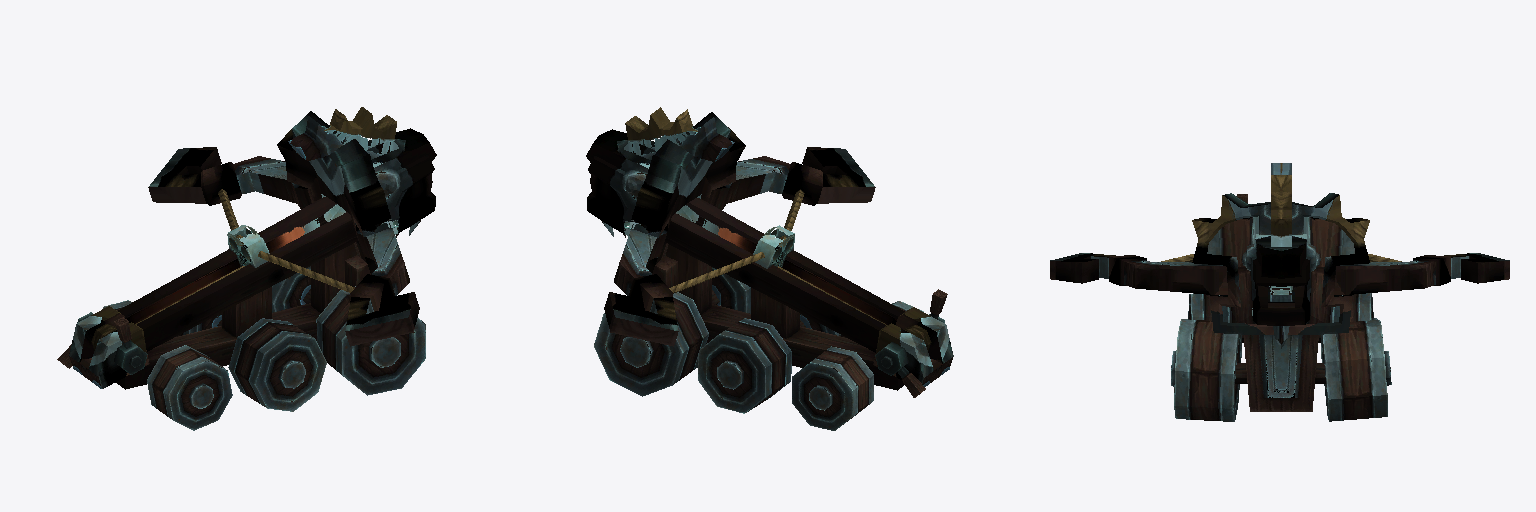
The picture shows the model from 3 angles: view 1: azimuth 30°, elevation 25°; view 2: azimuth 150°, elevation 25°; view 3: azimuth 270°, elevation 25°; orthographic projection.
Parts seen in each view (by area): view 1: world/expansion07/doodads/zandalaritroll/8tr_zandalari_ballista0; view 2: world/expansion07/doodads/zandalaritroll/8tr_zandalari_ballista0; view 3: world/expansion07/doodads/zandalaritroll/8tr_zandalari_ballista0.
Part boxes in pixels (x1,y1,x2,y2): world/expansion07/doodads/zandalaritroll/8tr_zandalari_ballista0: (57,107,436,430); world/expansion07/doodads/zandalaritroll/8tr_zandalari_ballista0: (586,107,953,430); world/expansion07/doodads/zandalaritroll/8tr_zandalari_ballista0: (1050,163,1509,421).
Bounding box in the file's own units: 9.38 × 6.25 × 10.65.
Materials: 1 (1 with a texture image).